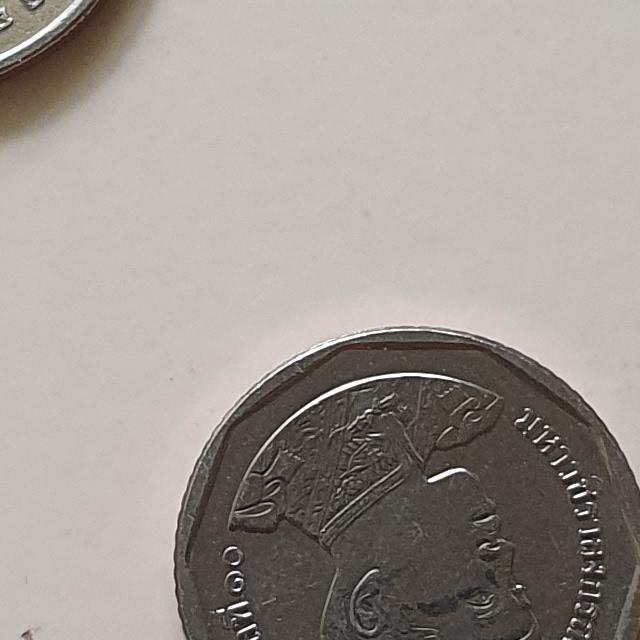10 Bath: (1, 1, 141, 91)
5 Bath: (161, 311, 640, 640)
